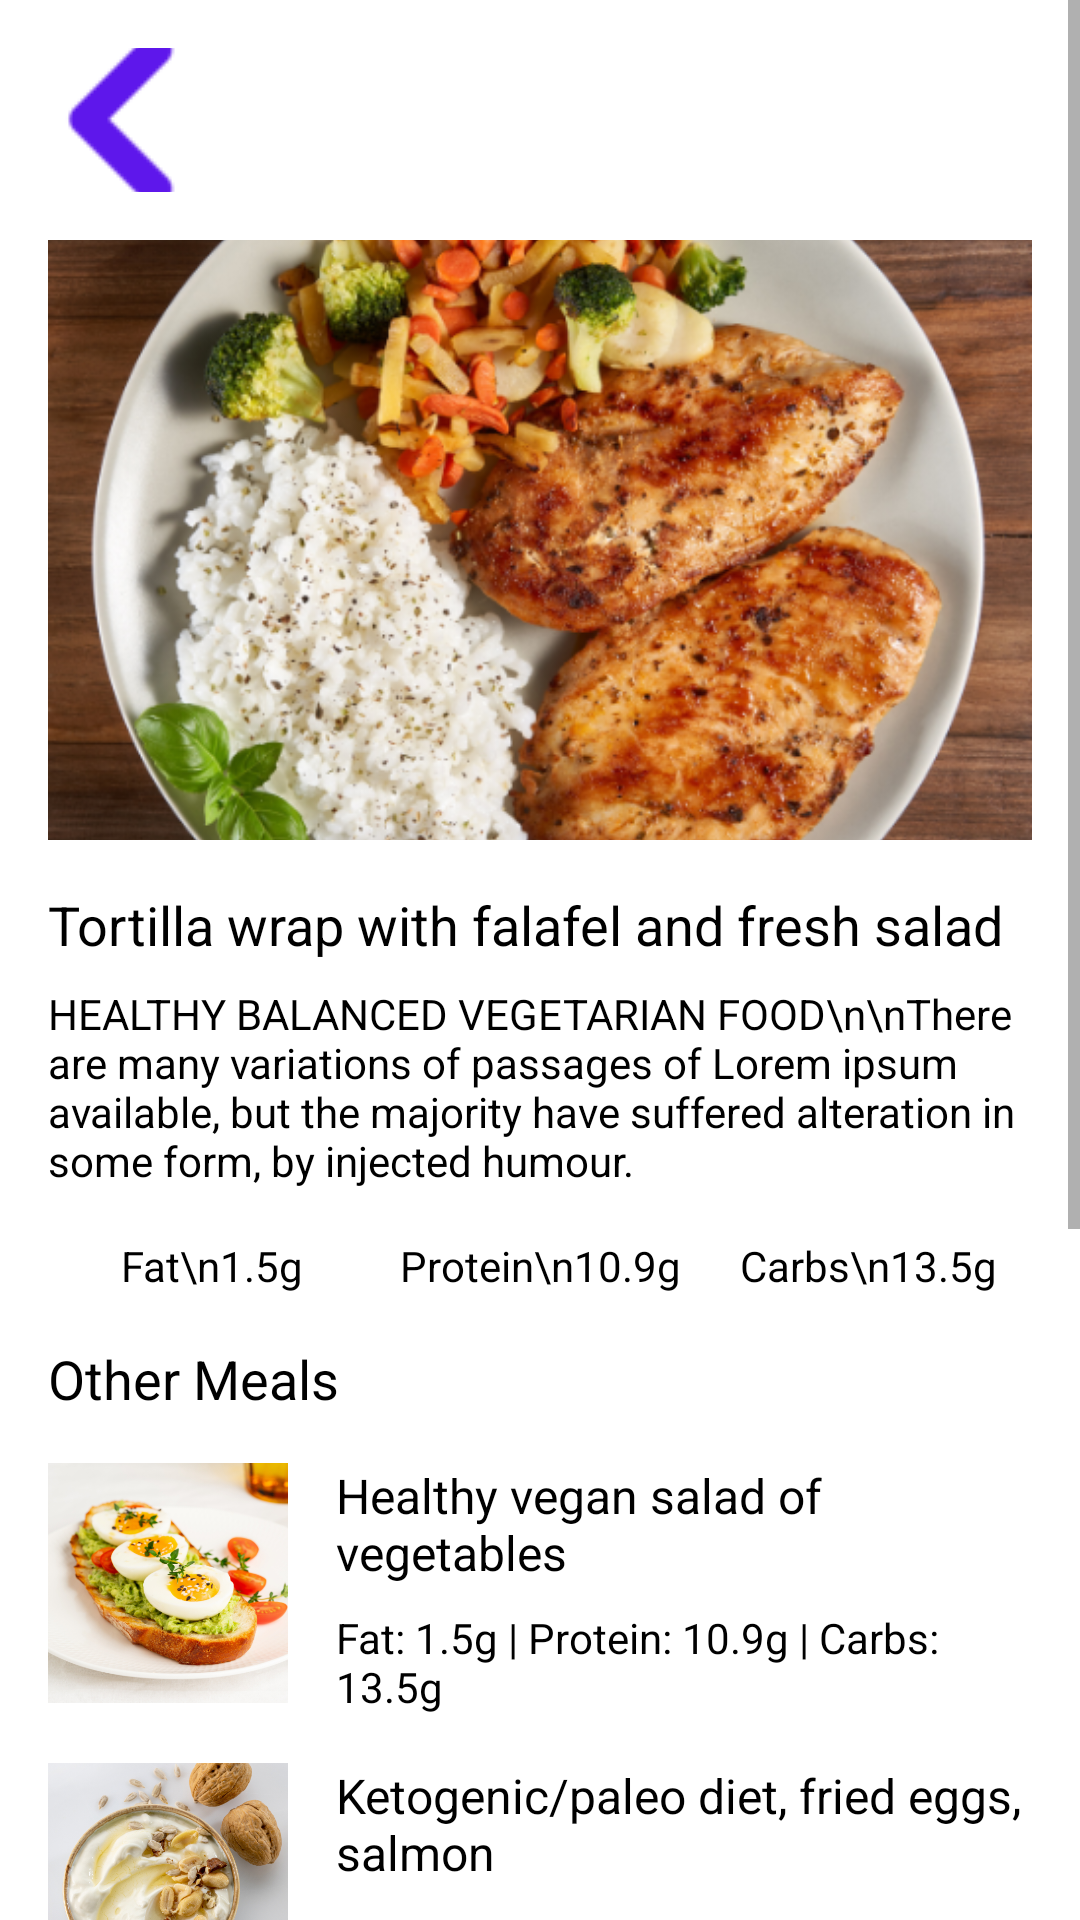

Screen size 1080*1920. Icon name, then its center in pixels as (x,y):
Back Button: (121,120)
